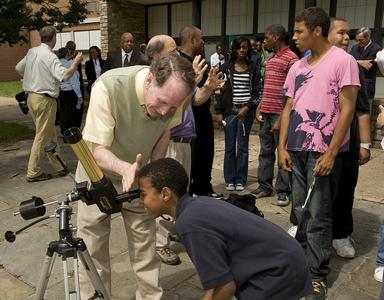person: (138, 158, 312, 299)
